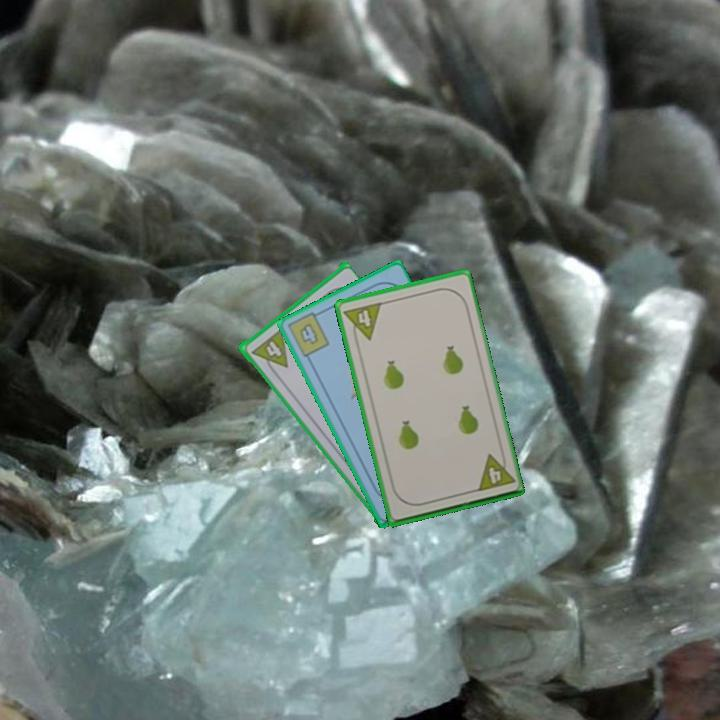4b: (286, 307, 332, 360)
4p: (340, 299, 384, 346), (473, 448, 517, 494), (259, 327, 291, 368)
